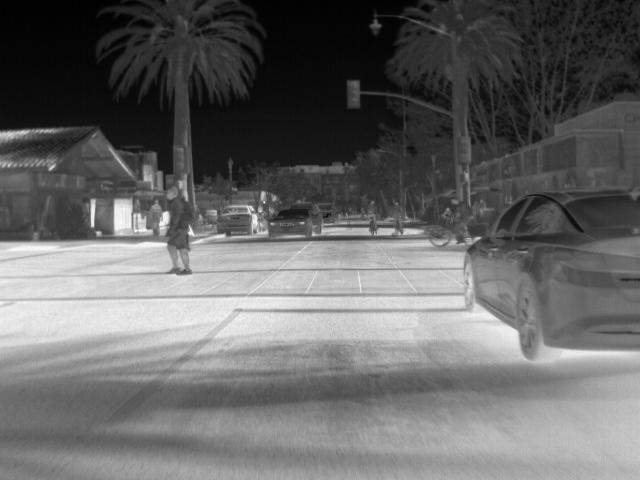car: (464, 188, 639, 361), (267, 207, 312, 239), (215, 204, 258, 236), (288, 202, 323, 234), (318, 201, 337, 227), (257, 210, 270, 231)
person: (165, 186, 192, 274), (449, 193, 473, 222), (148, 199, 163, 237), (392, 199, 406, 220), (366, 197, 380, 218), (131, 197, 143, 214), (476, 197, 487, 215), (441, 204, 453, 218), (472, 199, 480, 213)
